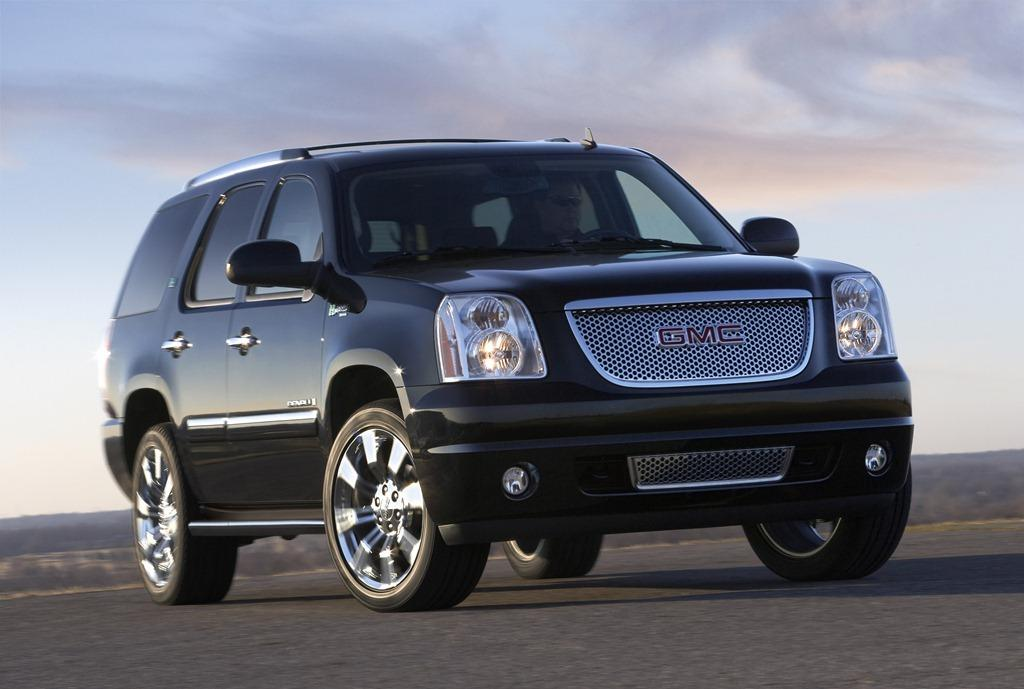GMC: (645, 315, 756, 354)
